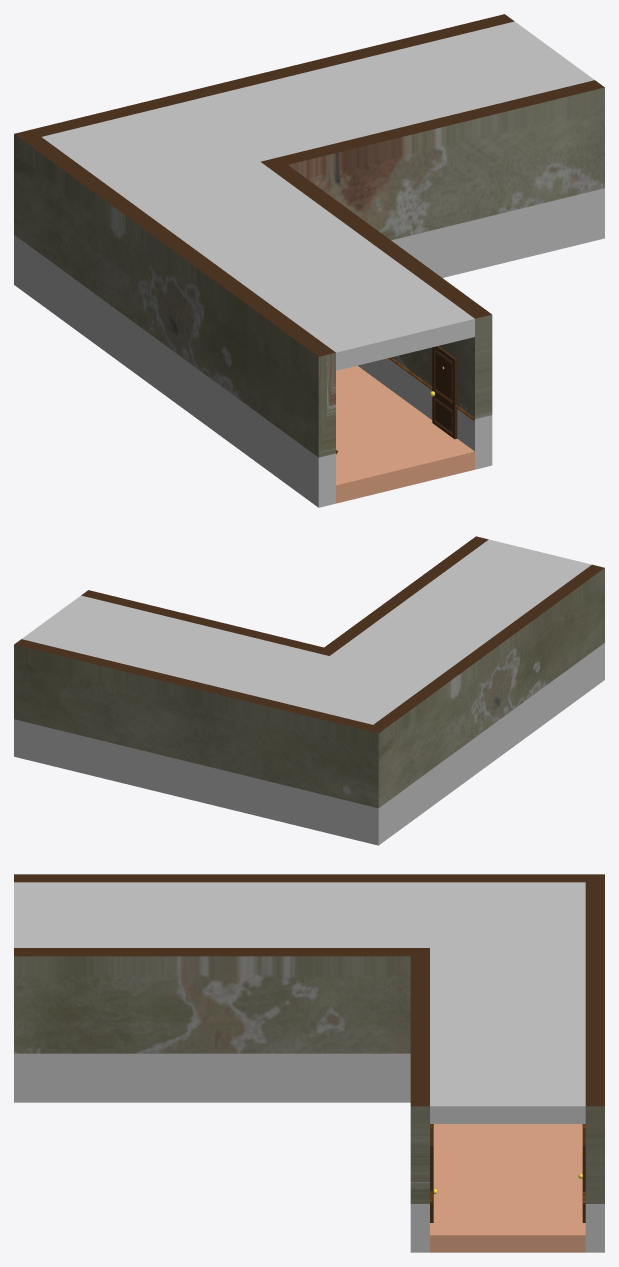
The model's file is 3Lkoridor.fbx.
The picture shows the model from 3 angles, top to bottom: view 1: azimuth 30°, elevation 25°; view 2: azimuth 150°, elevation 25°; view 3: azimuth 270°, elevation 25°; orthographic projection. The views are drawn at different scales.
Parts seen in each view (by area): view 1: Lkoridor; view 2: Lkoridor; view 3: Lkoridor.
Boxes of the visible parts, <box> form: Lkoridor: <box>14,14,604,507</box>; Lkoridor: <box>14,536,604,845</box>; Lkoridor: <box>14,874,604,1252</box>.
Bounding box in the file's own units: 1416 × 416 × 1520.
